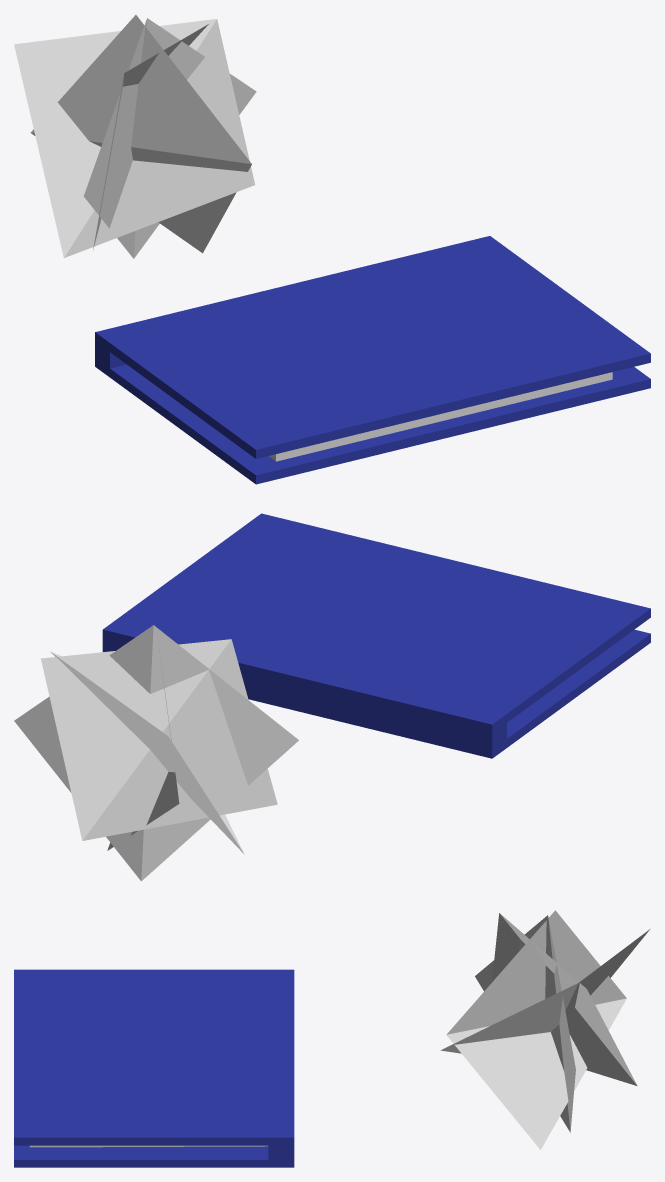
Rendered from Diary_PaperBall.fbx.
The picture shows the model from 3 angles, top to bottom: view 1: azimuth 30°, elevation 25°; view 2: azimuth 150°, elevation 25°; view 3: azimuth 270°, elevation 25°; orthographic projection. The views are drawn at different scales.
Visible parts, largest first — view 1: Diary, Paper; view 2: Diary, Paper; view 3: Diary, Paper.
Part boxes in pixels (bbox=[...]): Diary: bbox=[95, 236, 650, 484]; Paper: bbox=[14, 15, 256, 258]; Diary: bbox=[102, 513, 650, 758]; Paper: bbox=[14, 625, 298, 881]; Diary: bbox=[14, 969, 294, 1167]; Paper: bbox=[440, 910, 649, 1149].
Bounding box in the file's own units: 352 × 215 × 564.
